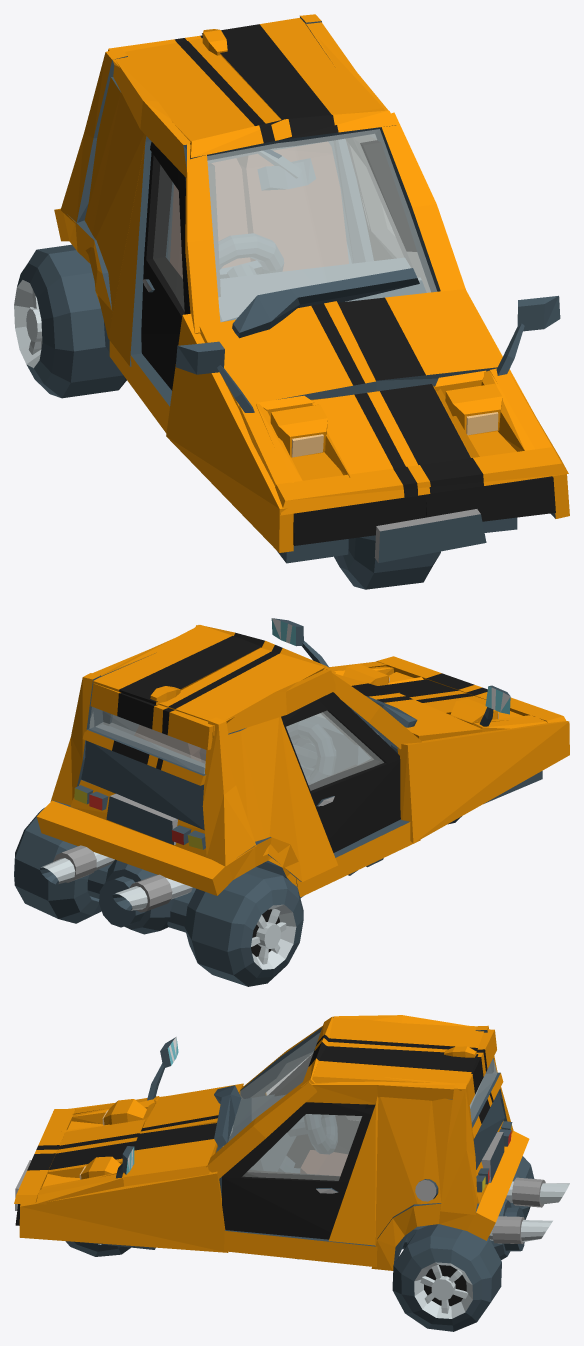
Rendered from scene_h14TpACSjr.glb.
3 views of the same model, one above another, from view 1: azimuth 30°, elevation 25°; view 2: azimuth 150°, elevation 25°; view 3: azimuth 270°, elevation 25° (orthographic). The views are drawn at different scales.
Visible parts, largest first — view 1: group1997806717, group984758681, group2046142633, group555284456, group788969800, group434004617, group1207072670, group1530680266, group1468793571, group698857850, group2080416661, group320734971 (+33 smaller); view 2: group434004617, group788969800, group984758681, group320734971, group1051330705, group1207072670, group1468793571, group1999849156, group1233879185, group362936881, group1949155038, group1583051804 (+30 smaller); view 3: group1885019339, group447744954, group505989938, group362936881, group774492591, group1207072670, group1051330705, group2046142633, group1468793571, group90471379, group964079087, group1997806717 (+31 smaller).
Boxes of the visible parts, x1,y1,x2,y2 form: group1997806717: [207, 129, 436, 321]; group984758681: [84, 77, 173, 366]; group2046142633: [338, 289, 500, 391]; group555284456: [199, 301, 376, 409]; group788969800: [14, 244, 126, 398]; group434004617: [166, 314, 293, 552]; group1207072670: [202, 17, 384, 119]; group1530680266: [312, 384, 471, 474]; group1468793571: [112, 38, 280, 142]; group698857850: [236, 142, 348, 271]; group2080416661: [275, 447, 568, 515]; group320734971: [141, 142, 220, 390]; group434004617: [397, 721, 569, 843]; group788969800: [184, 867, 303, 986]; group984758681: [228, 717, 337, 881]; group320734971: [281, 692, 400, 852]; group1051330705: [36, 800, 298, 895]; group1207072670: [93, 625, 261, 704]; group1468793571: [158, 648, 325, 723]; group1999849156: [81, 740, 204, 830]; group1233879185: [202, 717, 256, 866]; group362936881: [14, 807, 101, 923]; group1949155038: [286, 711, 383, 790]; group1583051804: [90, 683, 212, 750]; group1885019339: [19, 1171, 228, 1252]; group447744954: [328, 1096, 452, 1245]; group505989938: [222, 1102, 374, 1239]; group362936881: [392, 1224, 501, 1331]; group774492591: [243, 1114, 361, 1180]; group1207072670: [312, 1046, 478, 1083]; group1051330705: [371, 1131, 529, 1270]; group2046142633: [123, 1123, 217, 1186]; group1468793571: [327, 1017, 483, 1052]; group90471379: [440, 1083, 477, 1214]; group964079087: [224, 1230, 377, 1267]; group1997806717: [223, 1032, 320, 1146].
Bounding box in the file's own units: 0.3077 × 0.2303 × 0.4999.
